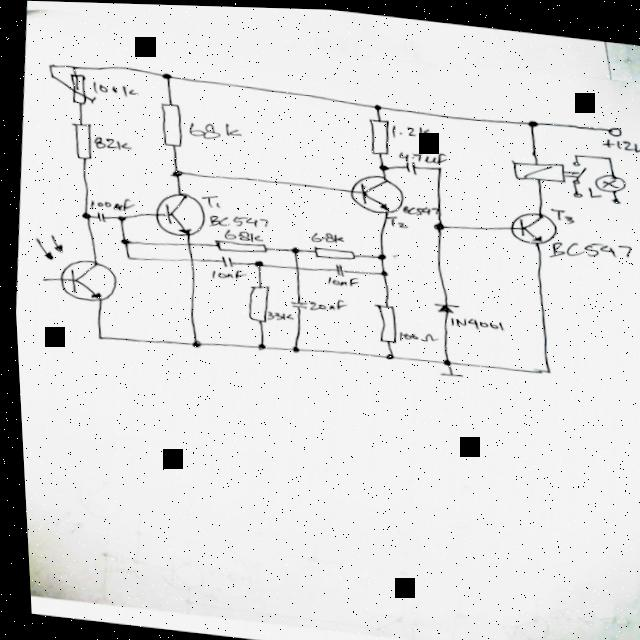capacitor: (286, 297, 305, 308), (402, 157, 415, 173), (217, 253, 231, 267), (330, 260, 341, 275), (92, 210, 104, 222)
crossover: (180, 253, 196, 265), (178, 236, 193, 248), (285, 261, 300, 272)
diode: (429, 298, 457, 312)
ground: (434, 366, 460, 376)
junction: (167, 167, 181, 177), (89, 332, 103, 342), (373, 265, 387, 275), (369, 99, 382, 109), (286, 243, 299, 253), (436, 354, 449, 364), (432, 160, 445, 170), (375, 160, 389, 169), (76, 210, 90, 219), (118, 252, 132, 261), (285, 343, 299, 352), (371, 250, 385, 259), (537, 364, 551, 373), (159, 70, 172, 79), (111, 212, 124, 221), (115, 236, 128, 245), (186, 338, 199, 347), (251, 341, 264, 350), (249, 257, 262, 266), (378, 349, 391, 358), (429, 219, 442, 228), (525, 116, 538, 125), (568, 148, 581, 157), (599, 149, 612, 158), (46, 72, 55, 79), (45, 62, 53, 69), (68, 63, 76, 70)
resistor: (154, 100, 184, 147), (367, 300, 396, 342), (64, 71, 97, 106), (208, 236, 267, 255), (363, 114, 391, 154), (67, 120, 93, 161), (242, 280, 267, 322), (309, 243, 354, 261)
terminal: (604, 122, 621, 133), (608, 192, 621, 201), (569, 186, 581, 195)
text: (544, 231, 630, 262), (186, 116, 242, 141), (205, 210, 267, 230), (86, 192, 134, 213), (445, 312, 502, 329), (389, 120, 438, 139), (395, 145, 447, 162), (89, 80, 138, 97), (600, 132, 640, 151), (304, 294, 345, 312), (219, 226, 262, 242), (394, 326, 436, 342), (91, 135, 131, 150), (307, 228, 343, 244), (398, 201, 438, 215), (207, 265, 244, 280), (323, 272, 357, 286), (546, 204, 574, 221), (383, 211, 407, 226), (198, 191, 219, 208), (262, 308, 291, 320), (583, 182, 601, 195)
transistor: (24, 231, 118, 304), (149, 188, 207, 238), (344, 168, 405, 214), (502, 206, 557, 243)
